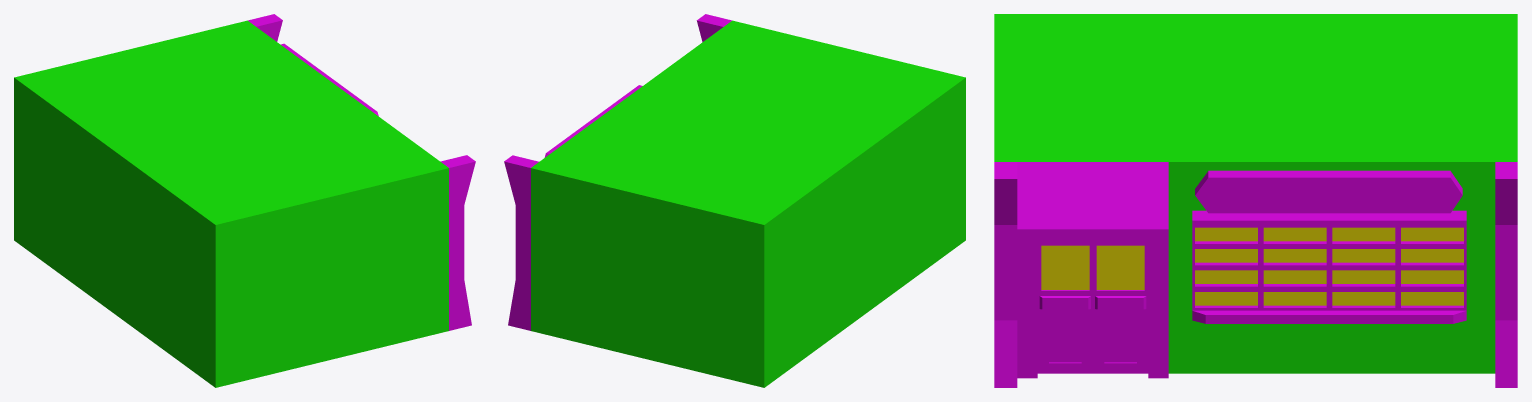
File: Fachada2.fbx
The picture shows the model from 3 angles, left to right: view 1: azimuth 30°, elevation 25°; view 2: azimuth 150°, elevation 25°; view 3: azimuth 270°, elevation 25°; orthographic projection. The views are drawn at different scales.
Visible parts, largest first — view 1: Cube.001; view 2: Cube.001; view 3: Cube.001.
Boxes of the visible parts, <box> form: Cube.001: <box>14,14,475,387</box>; Cube.001: <box>504,14,965,387</box>; Cube.001: <box>994,14,1517,387</box>.
Bounding box in the file's own units: 669 × 400 × 897.
